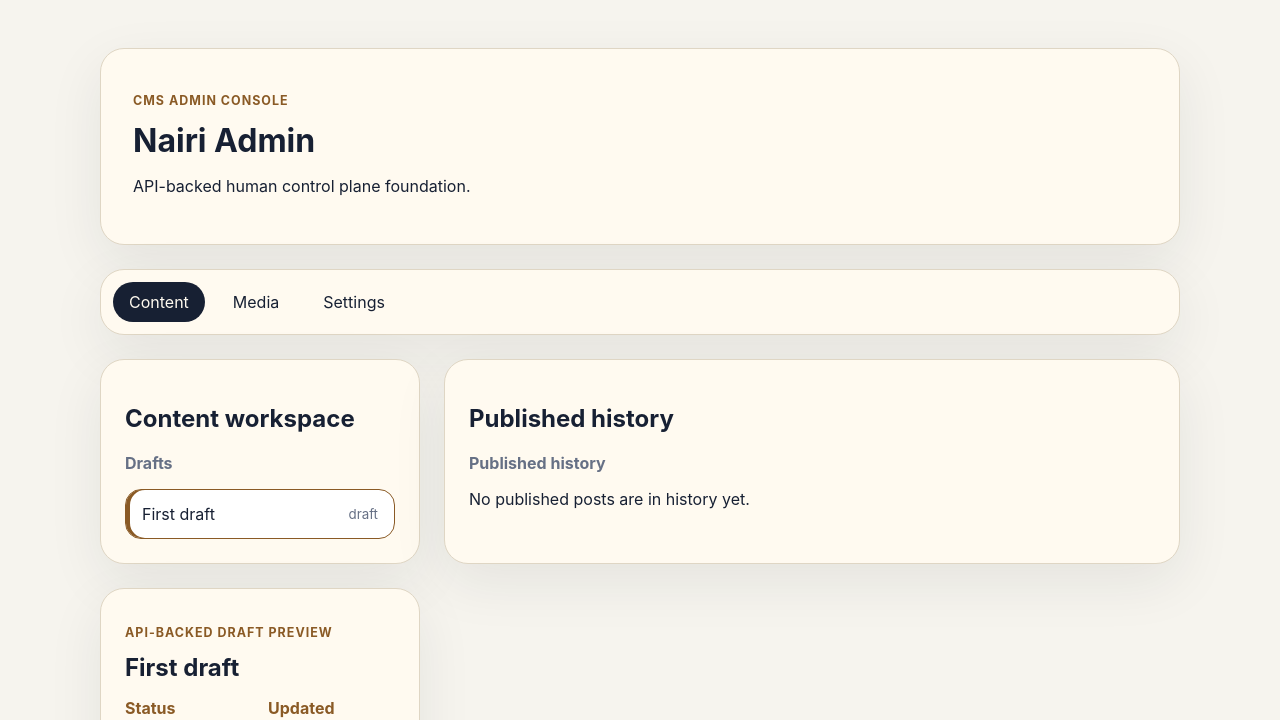
Nairi admin console shell › renders non-draft detail as read-only without draft workflow controls
Click the button "First draft draft": {"x": 178, "y": 514} [125,489,395,539]
(page scrolled)
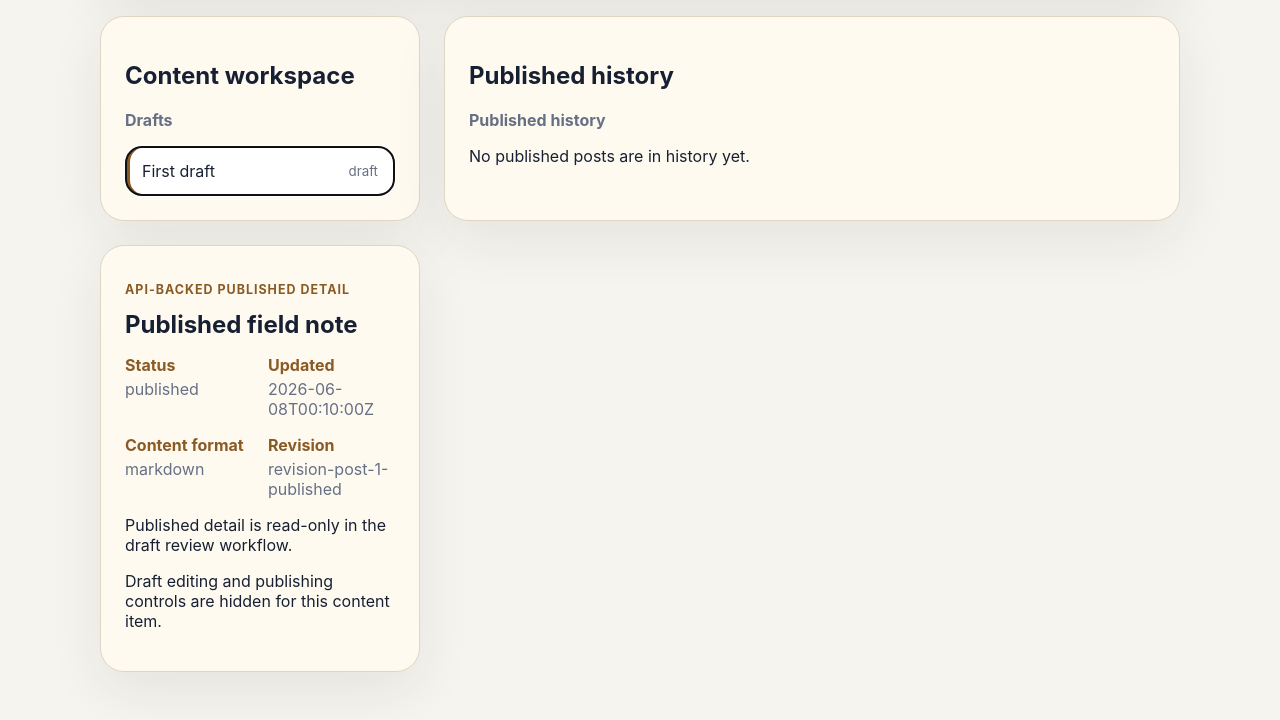
Check: the heading "Published field note" is shown, box [125,310,395,339]
Check: the text "published" is shown, box [125,379,199,399]
Check: the text "API-backed published detail" is shown, box [125,282,350,297]
